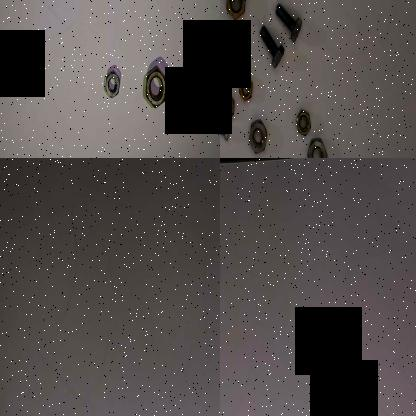Bolts: (258, 23, 286, 72), (275, 0, 303, 47), (220, 112, 230, 143)
NUTS: (144, 62, 170, 112), (249, 119, 269, 158), (102, 64, 121, 104), (294, 110, 314, 138), (225, 0, 246, 24), (220, 92, 236, 122), (237, 74, 254, 102), (307, 137, 329, 158)
